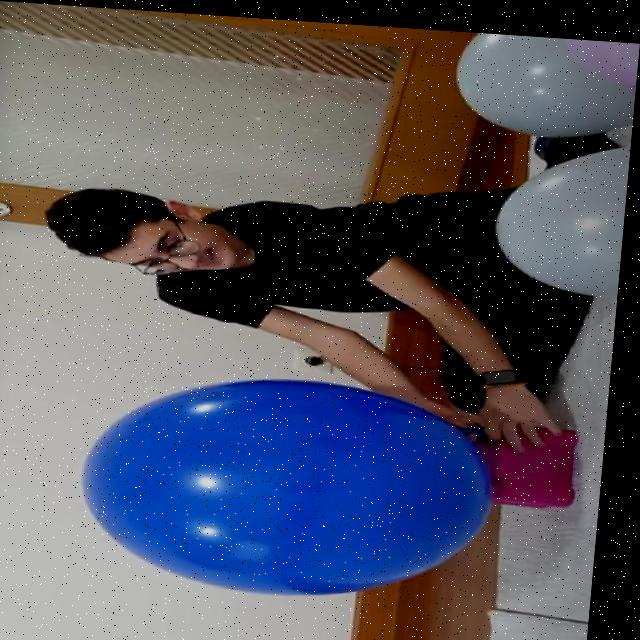balloon: (82, 365, 505, 595), (498, 138, 632, 285), (453, 24, 640, 128)
